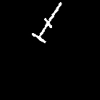double_crochet: (32, 2, 60, 42)
